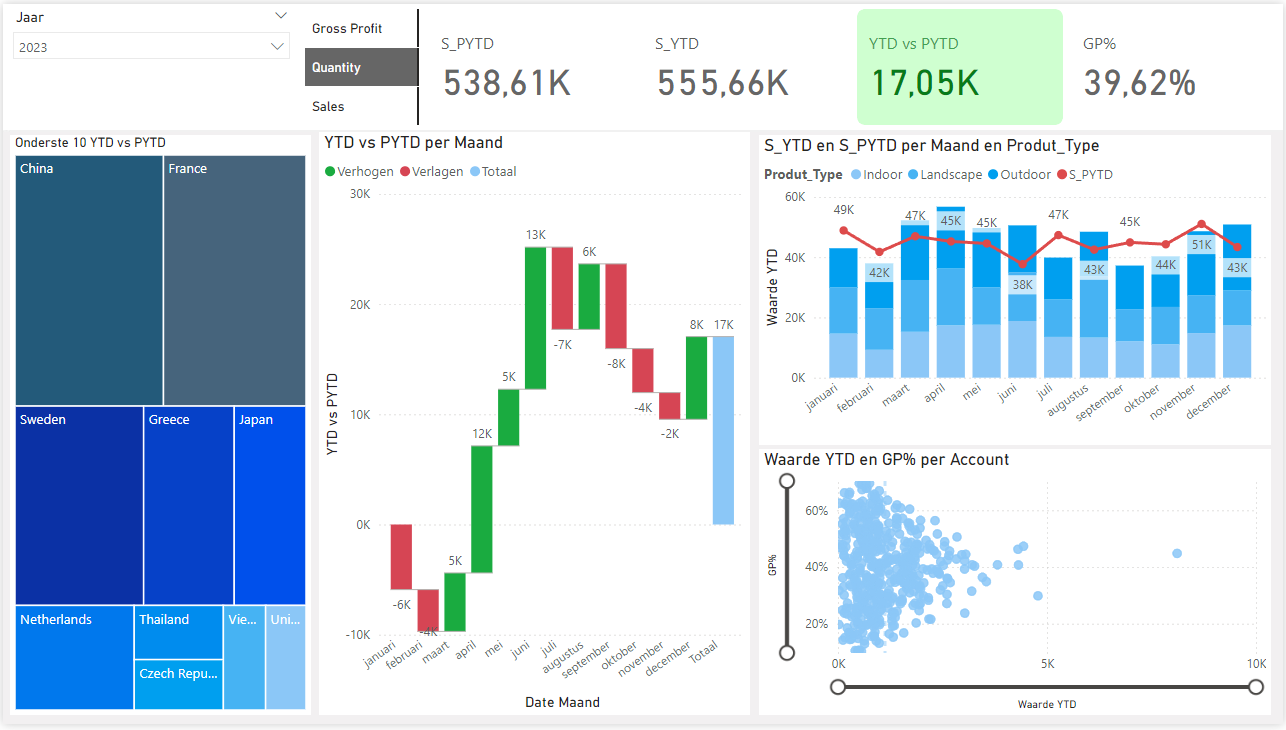

Layout of this report page (visuals, bound fields, positions):
{"tool":"powerbi","page":{"name":"Pagina 1","canvas":[1280,720],"ordinal":0},"visuals":[{"type":"cardVisual","fields":{"Data":["_Measures.S_PYTD","_Measures.S_YTD","_Measures.YTD vs PYTD","_Measures.GP%"]},"box":[421.2,0,859.2,125.9],"z":0},{"type":"advancedSlicerVisual","fields":{"Values":["Slc_Values.Values"]},"box":[297,0,124.1,125.9],"z":1000},{"type":"slicer","title":"YTD","fields":{"Values":["Dim_Date.Date.Variatie.Datumhiërarchie.Jaar"]},"box":[0,0,297,125.9],"z":2000},{"type":"treemap","title":"Onderste 10 YTD vs PYTD","fields":{"Values":["_Measures.YTD vs PYTD"],"Group":["Dim_Account.country"]},"box":[6.8,131.3,301.5,579.7],"z":3000},{"type":"waterfallChart","fields":{"Category":["Dim_Date.Date.Variatie.Datumhiërarchie.Maand","Dim_Account.country","Dim_products.Produt_Type","Dim_products.Product_Name"],"Y":["_Measures.YTD vs PYTD"]},"box":[316.1,128.4,430.9,582.6],"z":4000},{"type":"lineStackedColumnComboChart","fields":{"Y":["_Measures.S_YTD"],"Y2":["_Measures.S_PYTD"],"Category":["Dim_Date.Date.Variatie.Datumhiërarchie.Kwartaal","Dim_Date.Date.Variatie.Datumhiërarchie.Maand"],"Series":["Dim_products.Produt_Type"]},"box":[755.7,131.3,512.6,309.3],"z":5000},{"type":"scatterChart","fields":{"Y":["_Measures.GP%"],"X":["_Measures.S_YTD"],"Category":["Dim_Account.Account"]},"box":[755.7,445.5,512.6,265.5],"z":6000}]}

Visuals, with their boxes in screenshot pixels (x1, y1, x2, y2), scaled from the page's 1280x720 canvas onto the 1286x730 screenshot:
cardVisual - _Measures.S_PYTD x _Measures.S_YTD: locate(423, 0, 1285, 128)
advancedSlicerVisual - Slc_Values.Values: locate(298, 0, 423, 128)
"YTD" slicer: locate(0, 0, 298, 128)
"Onderste 10 YTD vs PYTD" treemap: locate(7, 133, 310, 721)
waterfallChart - Dim_Date.Date.Variatie.Datumhiërarchie.Maand x Dim_Account.country: locate(318, 130, 751, 721)
lineStackedColumnComboChart - _Measures.S_YTD x _Measures.S_PYTD: locate(759, 133, 1274, 447)
scatterChart - _Measures.GP% x _Measures.S_YTD: locate(759, 452, 1274, 721)
